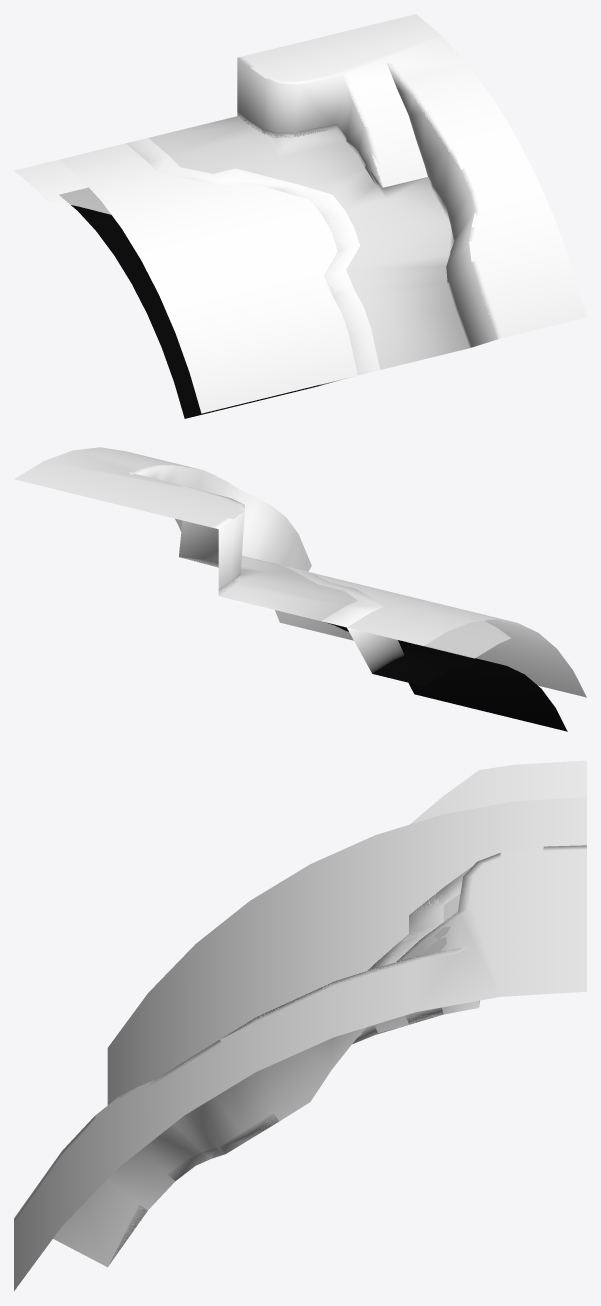
Rendered from grd_Msw_w_S_0.dae.
3 renders of one model, top to bottom at view 1: azimuth 30°, elevation 25°; view 2: azimuth 150°, elevation 25°; view 3: azimuth 270°, elevation 25°, orthographic. The views are drawn at different scales.
Visible parts, largest first — view 1: grd_Msw_w_S_0; view 2: grd_Msw_w_S_0; view 3: grd_Msw_w_S_0.
Boxes of the visible parts, x1,y1,x2,y2 form: grd_Msw_w_S_0: (14,14,586,418); grd_Msw_w_S_0: (14,447,586,731); grd_Msw_w_S_0: (14,760,586,1290).
Size of the model in its own units: 576 by 308 by 423.
7 materials, 1 textured.
